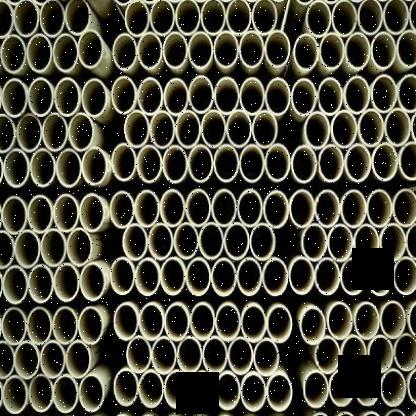pipe: (77, 28, 103, 69), (340, 189, 367, 228), (65, 340, 92, 379), (28, 78, 54, 118), (81, 78, 107, 118), (42, 112, 68, 152), (68, 112, 94, 152), (30, 148, 56, 188), (28, 264, 54, 304), (215, 302, 241, 342), (380, 368, 406, 408), (54, 78, 81, 116), (384, 108, 411, 146), (366, 258, 393, 296), (266, 374, 293, 412), (79, 192, 104, 233), (239, 77, 265, 116), (291, 78, 317, 117), (345, 143, 371, 182), (239, 144, 265, 183), (3, 149, 29, 188), (289, 189, 315, 228), (27, 194, 53, 233), (380, 223, 406, 262), (354, 301, 380, 340), (2, 78, 27, 118), (17, 112, 42, 152), (82, 146, 107, 186), (56, 148, 81, 188), (27, 306, 52, 346), (78, 306, 103, 346), (14, 340, 39, 380), (53, 374, 78, 414), (53, 33, 78, 73), (317, 78, 343, 116), (358, 108, 384, 146), (371, 143, 397, 181), (318, 144, 344, 182), (237, 189, 263, 227), (263, 190, 289, 228), (250, 223, 276, 261), (301, 224, 327, 262), (327, 224, 353, 262), (354, 224, 380, 262), (288, 257, 314, 295), (340, 258, 366, 296), (262, 258, 288, 296), (211, 258, 237, 296), (53, 264, 79, 302), (2, 266, 28, 304), (380, 300, 406, 338), (300, 307, 326, 345), (253, 338, 279, 376), (303, 370, 329, 408), (264, 30, 290, 68), (370, 32, 396, 70), (344, 76, 370, 114), (162, 145, 187, 184), (2, 196, 27, 235), (41, 228, 66, 267), (160, 257, 185, 296), (186, 257, 211, 296), (237, 257, 262, 296), (2, 307, 27, 346), (151, 336, 176, 375), (214, 30, 239, 69), (27, 34, 52, 73), (1, 35, 26, 74), (252, 111, 278, 148), (267, 306, 293, 343), (160, 188, 184, 228), (186, 188, 210, 228), (80, 262, 104, 302), (329, 368, 353, 408), (215, 76, 239, 116), (265, 78, 290, 116), (138, 78, 163, 116), (227, 110, 252, 148), (332, 110, 357, 148), (201, 110, 226, 148), (150, 110, 175, 148), (304, 110, 329, 148), (265, 144, 290, 182), (214, 144, 239, 182), (188, 144, 213, 182), (292, 146, 317, 184), (212, 189, 237, 227), (367, 189, 392, 227), (315, 190, 340, 228), (134, 190, 159, 228), (224, 222, 249, 260), (67, 228, 92, 266), (15, 230, 40, 268), (315, 258, 340, 296), (190, 302, 215, 340), (113, 302, 138, 340), (164, 303, 189, 341), (241, 305, 266, 343), (341, 335, 366, 373), (368, 335, 393, 373), (126, 336, 151, 374), (315, 336, 340, 374), (177, 336, 202, 374), (228, 337, 253, 375), (355, 368, 380, 406), (138, 370, 163, 408), (164, 371, 189, 409), (215, 372, 240, 410), (239, 30, 264, 68), (137, 32, 162, 70), (319, 32, 344, 70), (371, 74, 396, 112), (189, 76, 214, 114), (111, 76, 136, 114), (112, 143, 136, 182), (54, 193, 78, 232), (331, 0, 357, 36), (41, 340, 65, 379), (190, 372, 214, 411), (3, 375, 27, 414), (188, 32, 214, 68), (109, 191, 134, 228), (199, 223, 224, 260), (39, 0, 64, 37), (123, 224, 148, 261), (14, 0, 39, 37), (124, 0, 149, 37), (306, 0, 331, 37), (241, 375, 266, 412), (79, 375, 104, 412), (294, 34, 319, 71), (164, 78, 188, 116), (125, 110, 149, 148), (176, 110, 200, 148), (137, 145, 161, 183), (392, 188, 416, 226), (392, 256, 416, 294), (110, 257, 134, 295), (135, 258, 159, 296), (328, 302, 352, 340), (139, 303, 163, 341), (203, 336, 227, 374), (114, 368, 138, 406), (29, 374, 53, 412), (345, 32, 369, 70), (383, 0, 409, 35), (251, 0, 277, 35), (225, 0, 251, 35), (175, 0, 200, 36), (174, 223, 198, 260), (53, 307, 77, 344), (65, 0, 90, 35), (358, 0, 383, 35), (201, 0, 226, 35), (393, 333, 416, 371), (149, 224, 173, 260), (150, 0, 174, 36), (163, 32, 187, 68), (113, 33, 136, 70), (397, 140, 416, 181), (396, 29, 416, 67), (397, 73, 416, 111), (0, 113, 15, 152), (0, 0, 14, 39), (0, 230, 14, 268), (0, 341, 14, 379), (404, 222, 416, 261), (408, 300, 416, 340), (408, 367, 416, 407), (409, 0, 416, 35), (410, 108, 416, 146), (110, 0, 135, 6), (291, 0, 318, 4), (2, 0, 28, 4), (138, 0, 162, 4), (320, 0, 344, 4), (29, 0, 53, 4), (164, 0, 187, 3), (213, 0, 239, 2), (188, 0, 213, 2), (239, 0, 264, 2), (266, 0, 291, 2), (345, 0, 369, 2), (371, 0, 395, 2)
